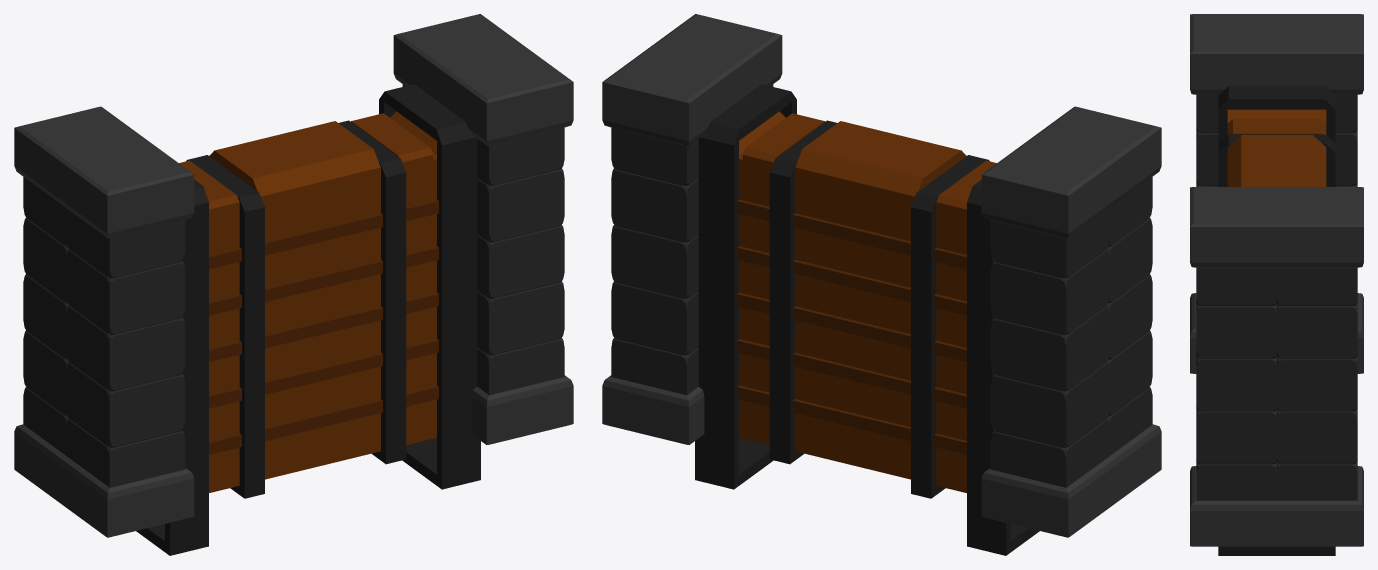
The model's file is Wall_03_Gate.fbx.
3 views of the same model, side by side, from view 1: azimuth 30°, elevation 25°; view 2: azimuth 150°, elevation 25°; view 3: azimuth 270°, elevation 25° (orthographic). The views are drawn at different scales.
Parts seen in each view (by area): view 1: Wall_03_Gate; view 2: Wall_03_Gate; view 3: Wall_03_Gate.
Part boxes in pixels (x1,y1,x2,y2): Wall_03_Gate: (14, 14, 573, 555); Wall_03_Gate: (602, 14, 1161, 555); Wall_03_Gate: (1190, 14, 1363, 555).
Bounding box in the file's own units: 1598 × 1284 × 553.
